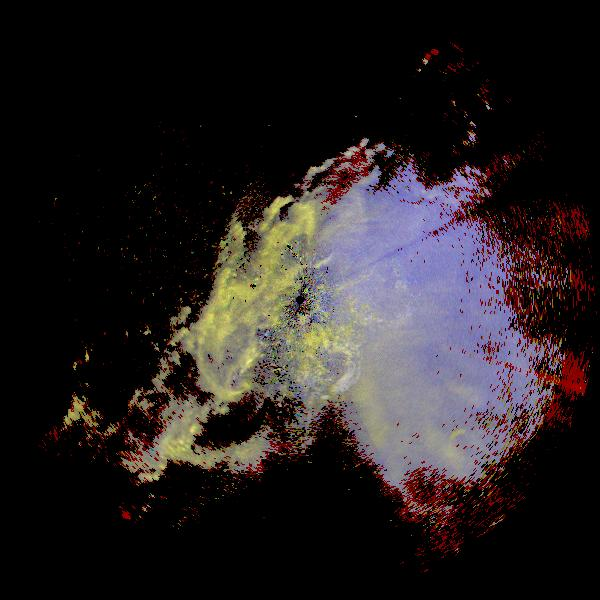roost: (433, 422, 490, 479)
